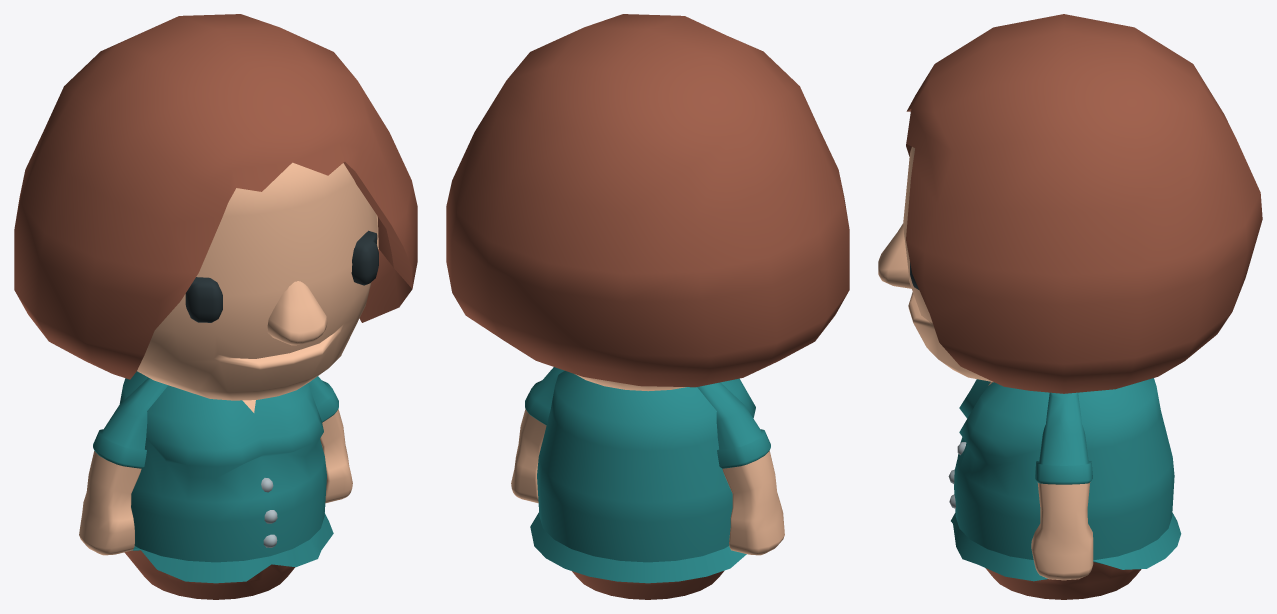
File: mob_female1.fbx
The picture shows the model from 3 angles, left to right: view 1: azimuth 30°, elevation 25°; view 2: azimuth 150°, elevation 25°; view 3: azimuth 270°, elevation 25°; orthographic projection.
Parts seen in each view (by area): view 1: Cube, character_rogueHead, character_rogueBody, character_rogueArmRight, character_rogueArmLeft; view 2: Cube, character_rogueBody, character_rogueArmRight, character_rogueArmLeft; view 3: Cube, character_rogueBody, character_rogueArmLeft, character_rogueHead.
Part boxes in pixels (x1=…): Cube: x1=14, y1=14, x2=417, y2=379; character_rogueHead: x1=137, y1=162, x2=378, y2=400; character_rogueBody: x1=119, y1=371, x2=333, y2=599; character_rogueArmRight: x1=79, y1=377, x2=167, y2=555; character_rogueArmLeft: x1=308, y1=376, x2=352, y2=503; Cube: x1=446, y1=14, x2=849, y2=387; character_rogueBody: x1=530, y1=371, x2=755, y2=599; character_rogueArmRight: x1=697, y1=382, x2=784, y2=555; character_rogueArmLeft: x1=511, y1=367, x2=564, y2=503; Cube: x1=906, y1=14, x2=1262, y2=393; character_rogueBody: x1=948, y1=378, x2=1181, y2=599; character_rogueArmLeft: x1=1031, y1=392, x2=1093, y2=580; character_rogueHead: x1=878, y1=147, x2=993, y2=382.
Size of the model in its own units: 125 by 180 by 117.
